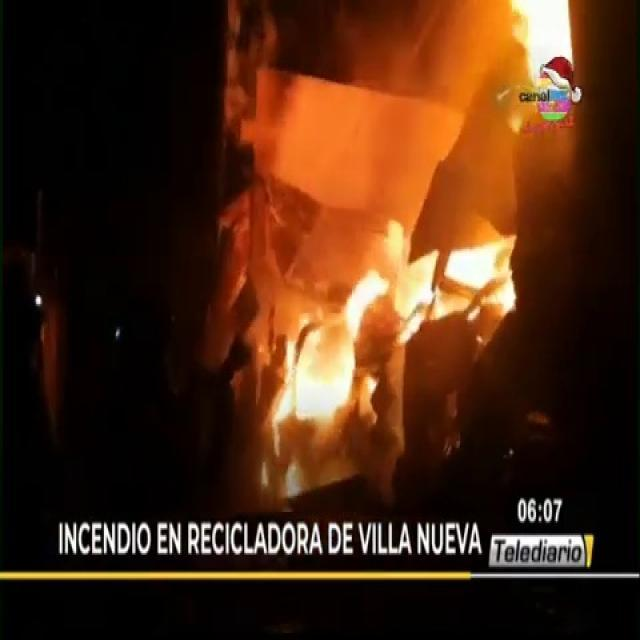Fire: (278, 315, 362, 424), (447, 246, 515, 306), (518, 5, 570, 58)
